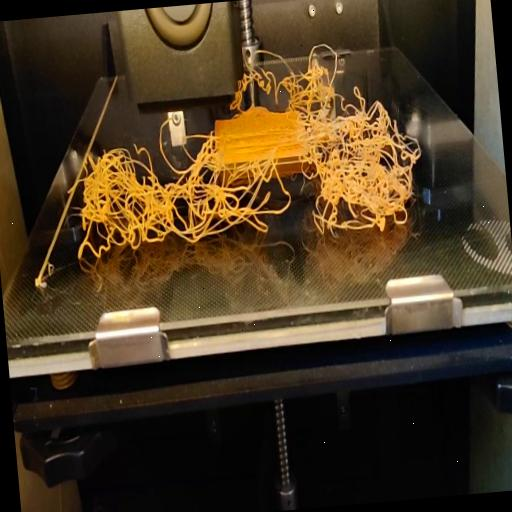spaghetti: (59, 88, 429, 264), (239, 32, 364, 108)
